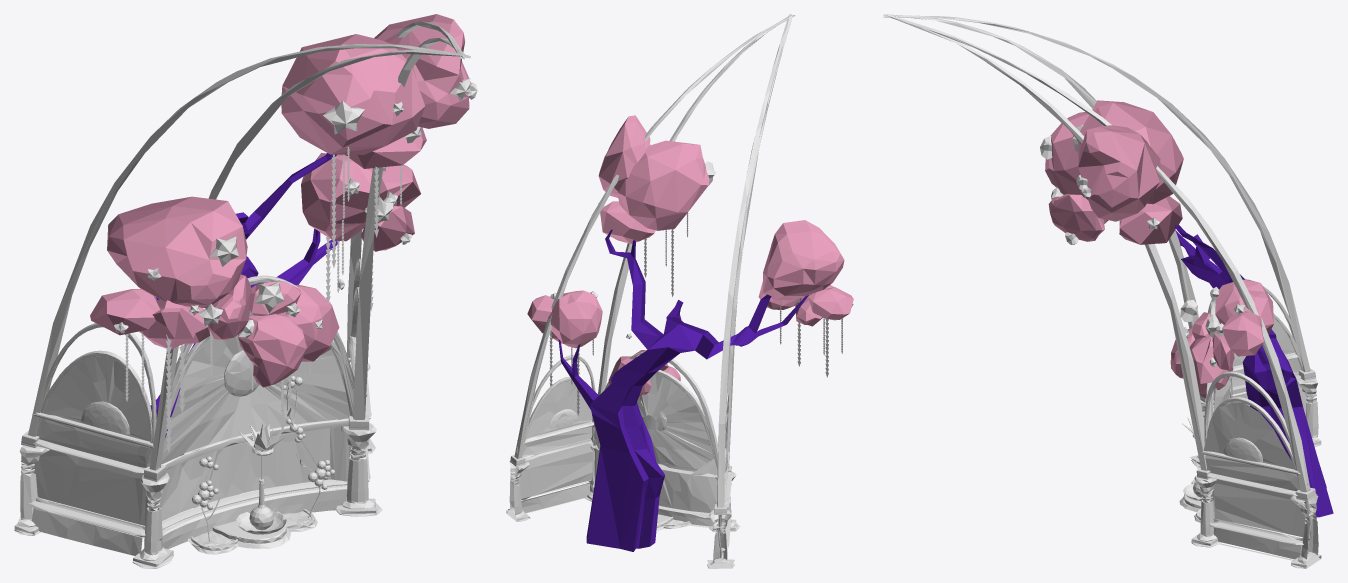
File: pillier.FBX
3 renders of one model, left to right at view 1: azimuth 30°, elevation 25°; view 2: azimuth 150°, elevation 25°; view 3: azimuth 270°, elevation 25°, orthographic. The views are drawn at different scales.
Parts seen in each view (by area): view 1: feuilles001, fond001, arc001, rayons003, rayons004, mur001, Object032, face002, arche petites001, tronc, colonne003, basecolonne001 (+15 smaller); view 2: feuilles001, tronc, arc001, fond001, rayons004, rayons003, arche petites001, mur001, face002, colonne003, basecolonne001, Object070 (+2 smaller); view 3: feuilles001, arc001, fond001, tronc, mur001, arche petites001, rayons004, Object032, rayons003, colonne003, face002, basecolonne001 (+2 smaller).
Part boxes in pixels (x1,y1,x2,y2): feuilles001: [90, 14, 470, 349]; fond001: [33, 336, 356, 525]; arc001: [28, 21, 470, 470]; rayons003: [53, 310, 348, 460]; rayons004: [43, 329, 356, 464]; mur001: [27, 337, 371, 546]; Object032: [238, 280, 339, 387]; face002: [31, 489, 346, 555]; arche petites001: [32, 258, 361, 443]; tronc: [150, 153, 339, 455]; colonne003: [14, 363, 382, 568]; basecolonne001: [20, 447, 368, 555]; feuilles001: [527, 115, 853, 348]; tronc: [558, 229, 808, 551]; arc001: [514, 14, 795, 507]; fond001: [516, 422, 717, 512]; rayons004: [526, 376, 726, 469]; rayons003: [532, 373, 726, 468]; arche petites001: [516, 351, 728, 507]; mur001: [514, 413, 732, 563]; face002: [521, 482, 727, 551]; colonne003: [506, 445, 740, 568]; basecolonne001: [509, 476, 731, 563]; Object070: [779, 298, 842, 377]; feuilles001: [1045, 100, 1273, 370]; arc001: [882, 14, 1310, 491]; fond001: [1205, 354, 1311, 538]; tronc: [1174, 225, 1333, 517]; mur001: [1201, 352, 1311, 560]; arche petites001: [1204, 278, 1306, 492]; rayons004: [1204, 318, 1294, 469]; Object032: [1170, 312, 1233, 398]; rayons003: [1207, 320, 1286, 451]; colonne003: [1189, 378, 1321, 568]; face002: [1213, 527, 1309, 559]; basecolonne001: [1200, 394, 1318, 559].
Size of the model in its own units: 10.07 by 14.66 by 12.28.
